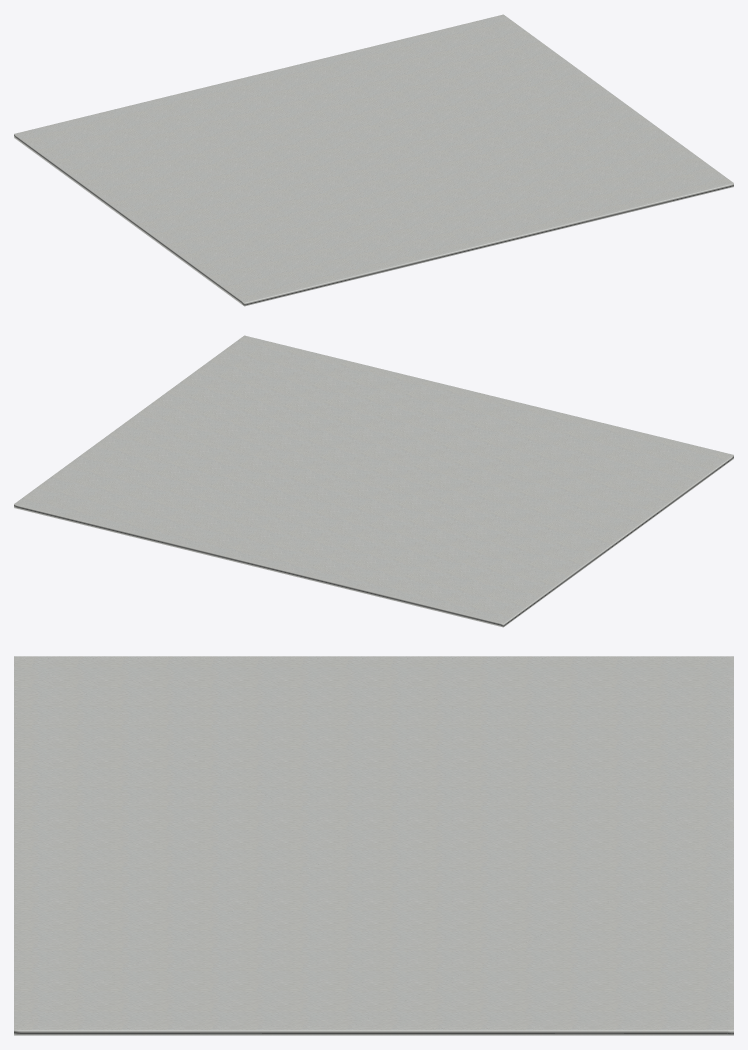
The model's file is AHCeiling.FBX.
3 views of the same model, one above another, from view 1: azimuth 30°, elevation 25°; view 2: azimuth 150°, elevation 25°; view 3: azimuth 270°, elevation 25° (orthographic). The views are drawn at different scales.
Visible parts, largest first — view 1: Ceiling; view 2: Ceiling; view 3: Ceiling.
Boxes of the visible parts, x1,y1,x2,y2 form: Ceiling: [14, 14, 733, 306]; Ceiling: [14, 335, 733, 627]; Ceiling: [14, 656, 733, 1035].
Bounding box in the file's own units: 1928 × 14.94 × 1571.
